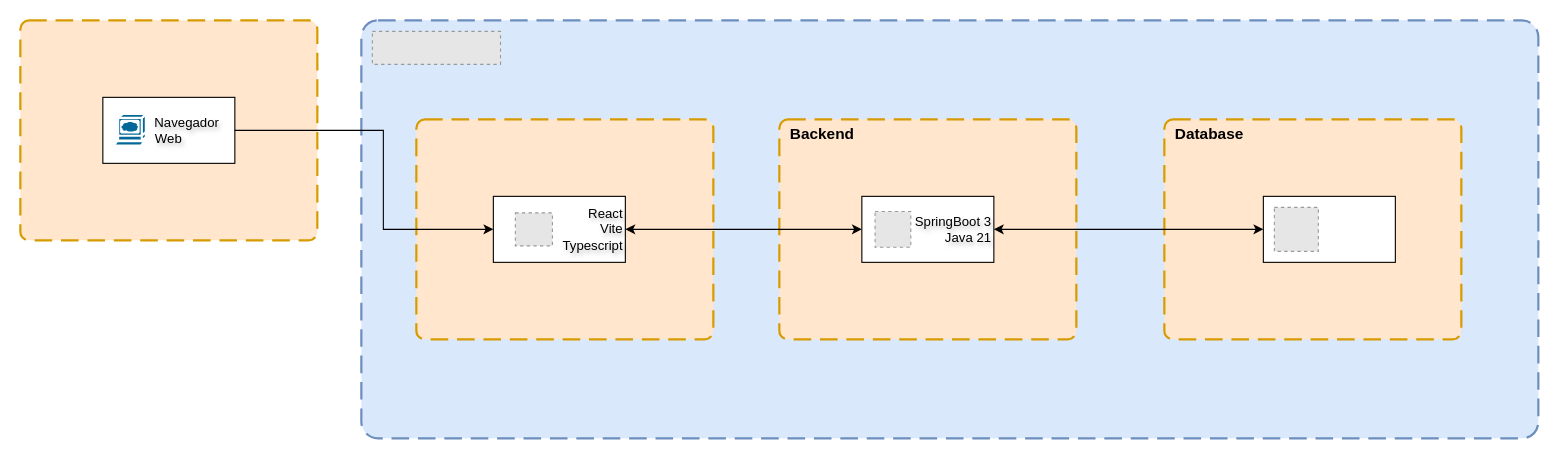
This 1558x458 diagram has some shape labels left out. Grey dashed boxes stand in for pictures. The box of each missing label's shape, as (x1, y1, x2, y2) in pixels:
Front End: (415, 118, 714, 340)
Postgres15: (1262, 195, 1395, 262)
Usuario Final: (19, 19, 318, 241)
